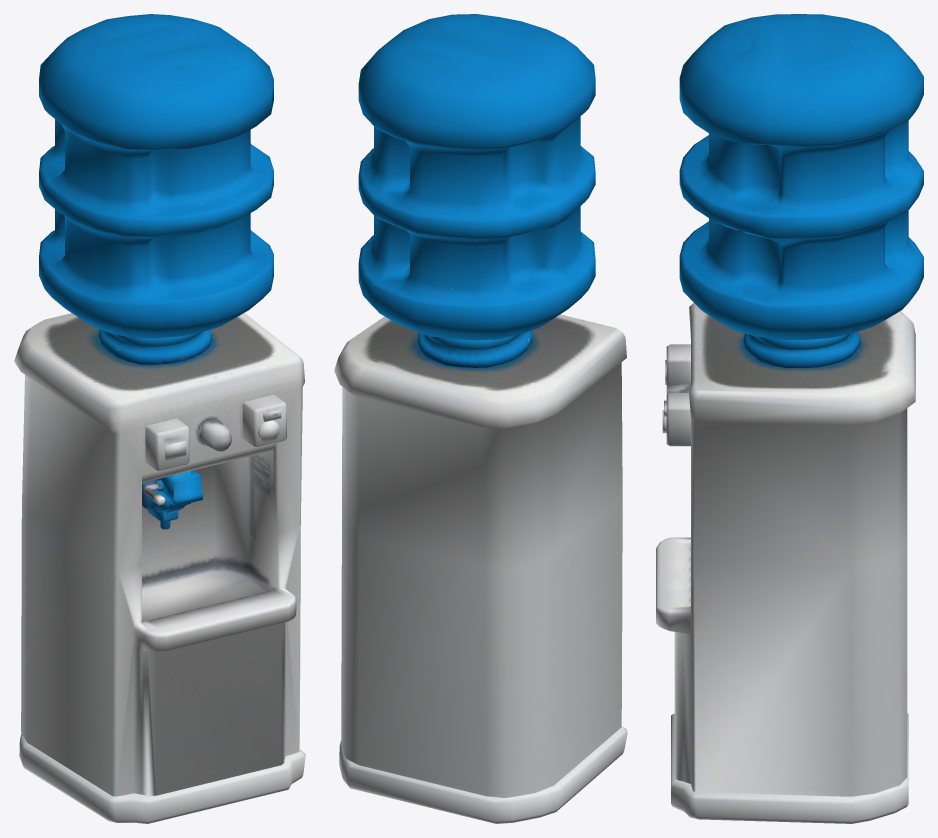
Rendered from Bank_WaterCooler.glb.
3 renders of one model, left to right at view 1: azimuth 30°, elevation 25°; view 2: azimuth 150°, elevation 25°; view 3: azimuth 270°, elevation 25°, orthographic.
Parts seen in each view (by area): view 1: tripo_node_42c9bdc1-0ff9-4f21-a28e-d362df8585a9; view 2: tripo_node_42c9bdc1-0ff9-4f21-a28e-d362df8585a9; view 3: tripo_node_42c9bdc1-0ff9-4f21-a28e-d362df8585a9.
Boxes of the visible parts, box(x1,y1,x2,y2) form: tripo_node_42c9bdc1-0ff9-4f21-a28e-d362df8585a9: box(14, 14, 305, 823); tripo_node_42c9bdc1-0ff9-4f21-a28e-d362df8585a9: box(334, 14, 627, 823); tripo_node_42c9bdc1-0ff9-4f21-a28e-d362df8585a9: box(656, 14, 923, 823).
Size of the model in its own units: 0.3151 by 1 by 0.3327.
1 material, 1 textured.
